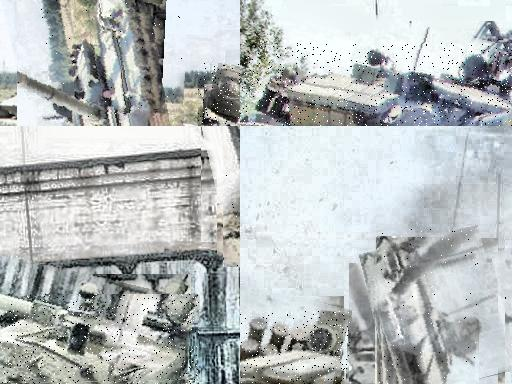tanks: (254, 45, 512, 127), (19, 1, 175, 127), (1, 297, 200, 384), (378, 229, 479, 384), (241, 312, 352, 384), (204, 64, 241, 127)
